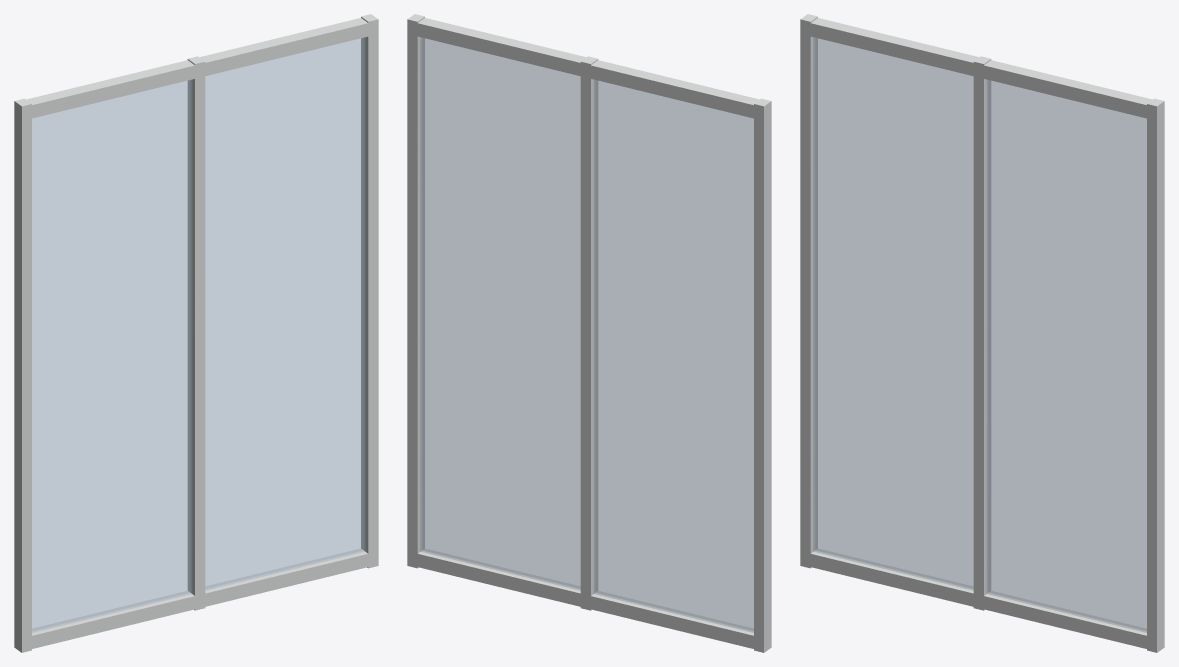
Rendered from door-double-glass.obj.
3 views of the same model, side by side, from view 1: azimuth 30°, elevation 25°; view 2: azimuth 150°, elevation 25°; view 3: azimuth 330°, elevation 25° (orthographic).
Visible parts, largest first — view 1: door-double-glass_7, door-double-glass_2, door-double-glass_1, door-double-glass_0, door-double-glass_5, door-double-glass_9, door-double-glass_4, door-double-glass_8, door-double-glass_3; view 2: door-double-glass_7, door-double-glass_2, door-double-glass_1, door-double-glass_0, door-double-glass_5, door-double-glass_9, door-double-glass_4, door-double-glass_8, door-double-glass_3; view 3: door-double-glass_2, door-double-glass_7, door-double-glass_1, door-double-glass_5, door-double-glass_0, door-double-glass_4, door-double-glass_9, door-double-glass_3, door-double-glass_8.
Boxes of the visible parts, x1=… form: door-double-glass_7: x1=205, y1=37, x2=365, y2=590; door-double-glass_2: x1=32, y1=80, x2=192, y2=632; door-double-glass_1: x1=187, y1=56, x2=205, y2=610; door-double-glass_0: x1=14, y1=98, x2=31, y2=652; door-double-glass_5: x1=361, y1=14, x2=378, y2=568; door-double-glass_9: x1=199, y1=18, x2=368, y2=76; door-double-glass_4: x1=26, y1=60, x2=194, y2=118; door-double-glass_8: x1=205, y1=548, x2=368, y2=606; door-double-glass_3: x1=32, y1=590, x2=194, y2=648; door-double-glass_7: x1=420, y1=37, x2=580, y2=590; door-double-glass_2: x1=593, y1=80, x2=753, y2=632; door-double-glass_1: x1=580, y1=56, x2=598, y2=610; door-double-glass_0: x1=754, y1=98, x2=771, y2=652; door-double-glass_5: x1=407, y1=14, x2=424, y2=568; door-double-glass_9: x1=417, y1=18, x2=586, y2=76; door-double-glass_4: x1=591, y1=60, x2=759, y2=118; door-double-glass_8: x1=417, y1=548, x2=580, y2=606; door-double-glass_3: x1=591, y1=590, x2=753, y2=648; door-double-glass_2: x1=813, y1=37, x2=973, y2=590; door-double-glass_7: x1=986, y1=80, x2=1146, y2=632; door-double-glass_1: x1=973, y1=56, x2=991, y2=610; door-double-glass_5: x1=1147, y1=98, x2=1164, y2=652; door-double-glass_0: x1=800, y1=14, x2=817, y2=568; door-double-glass_4: x1=810, y1=18, x2=979, y2=76; door-double-glass_9: x1=984, y1=60, x2=1152, y2=118; door-double-glass_3: x1=810, y1=548, x2=973, y2=606; door-double-glass_8: x1=984, y1=590, x2=1146, y2=648.
Bounding box in the file's own units: 1.4 × 2.05 × 0.05.
